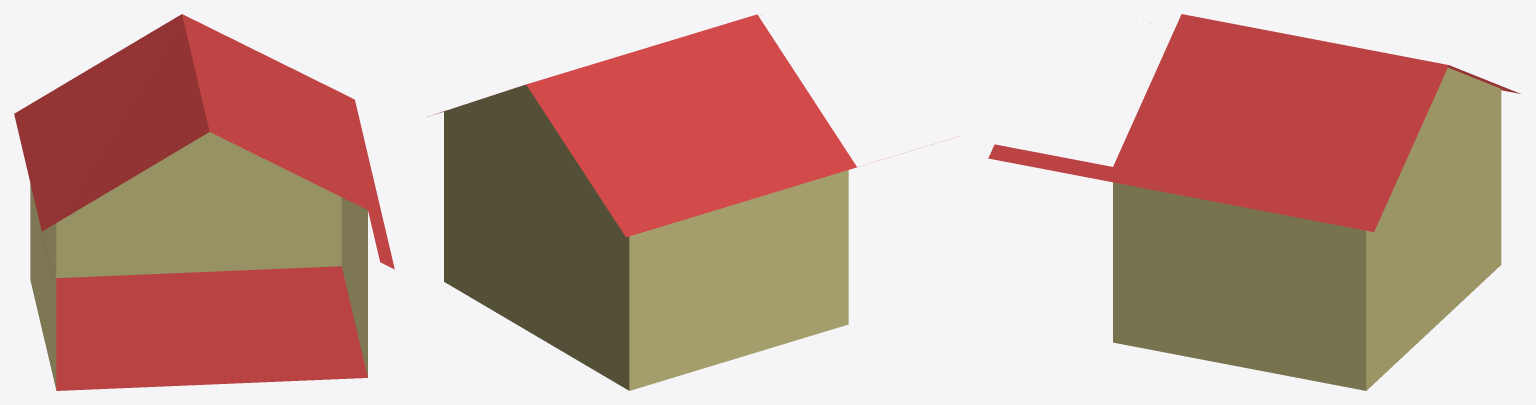
3 views of the same model, side by side, from view 1: azimuth 30°, elevation 25°; view 2: azimuth 150°, elevation 25°; view 3: azimuth 270°, elevation 25° (orthographic). The views are drawn at different scales.
Bounding box in the file's own units: 16.26 × 17.31 × 9.47.
